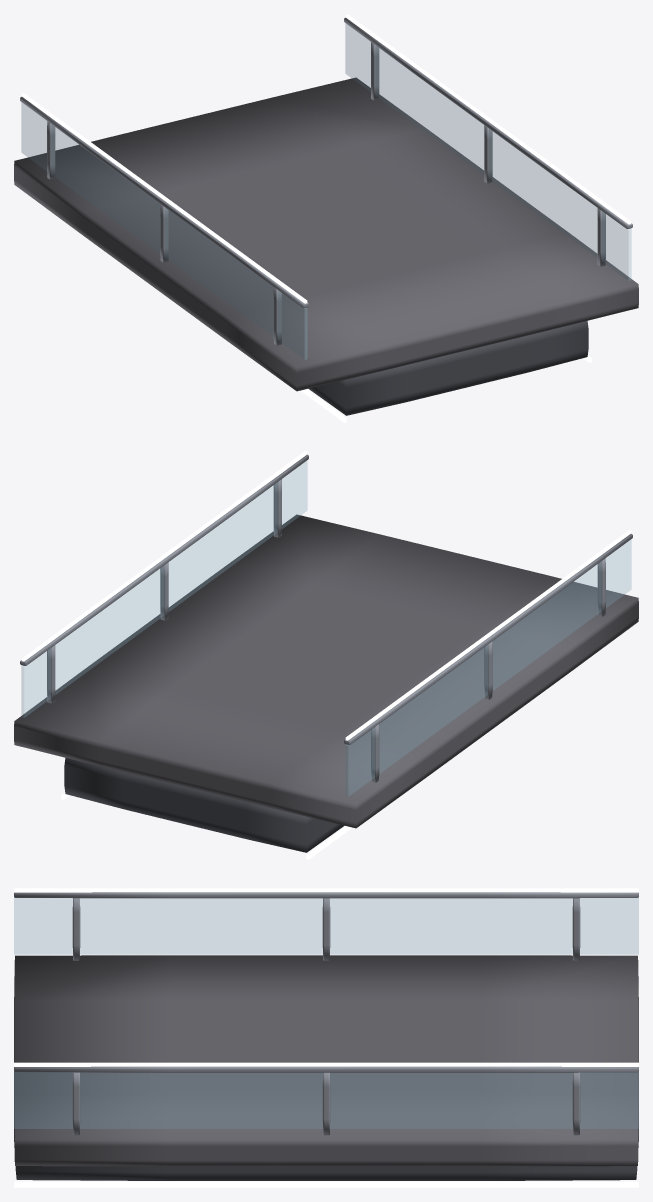
Rendered from ped_bridge.glb.
The picture shows the model from 3 angles, top to bottom: view 1: azimuth 30°, elevation 25°; view 2: azimuth 150°, elevation 25°; view 3: azimuth 270°, elevation 25°; orthographic projection. The views are drawn at different scales.
Visible parts, largest first — view 1: ped_bridge; view 2: ped_bridge; view 3: ped_bridge.
Part boxes in pixels (x1,y1,x2,y2): ped_bridge: (14, 14, 638, 422); ped_bridge: (14, 451, 638, 859); ped_bridge: (14, 888, 638, 1187).
Bounding box in the file's own units: 7 × 2.56 × 10.
